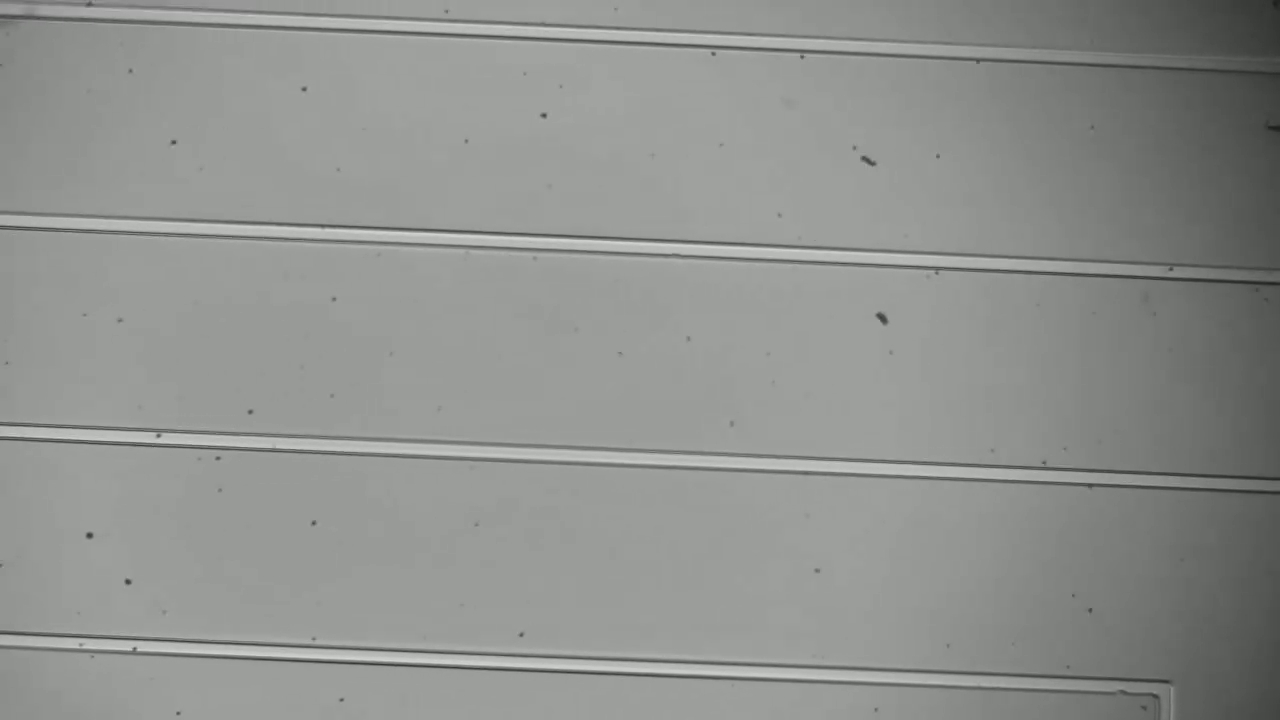edge_bite: (1107, 669, 1136, 703)
